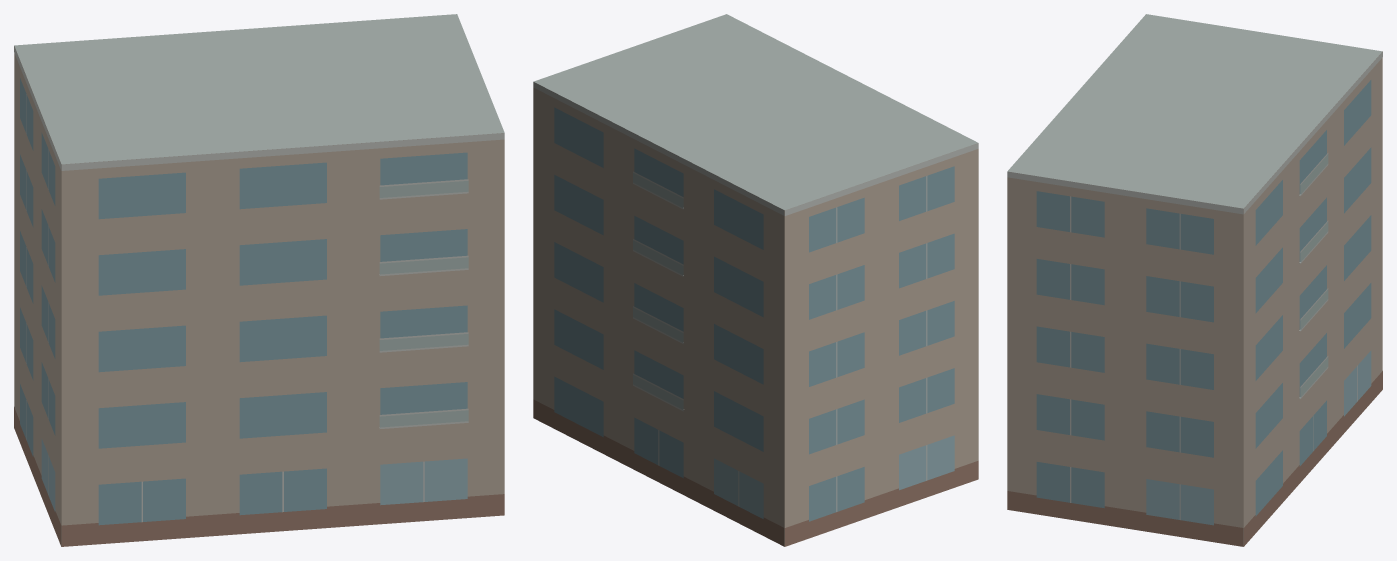
Rendered from survey-upis-32891033.glb.
3 renders of one model, left to right at view 1: azimuth 30°, elevation 25°; view 2: azimuth 150°, elevation 25°; view 3: azimuth 270°, elevation 25°, orthographic. The views are drawn at different scales.
Visible parts, largest first — view 1: survey-upis-32891033.tmp; view 2: survey-upis-32891033.tmp; view 3: survey-upis-32891033.tmp.
Part boxes in pixels (x1,y1,x2,y2): survey-upis-32891033.tmp: (14, 14, 504, 546); survey-upis-32891033.tmp: (533, 14, 978, 546); survey-upis-32891033.tmp: (1007, 14, 1382, 546).
Bounding box in the file's own units: 17.41 × 14.1 × 14.2.
